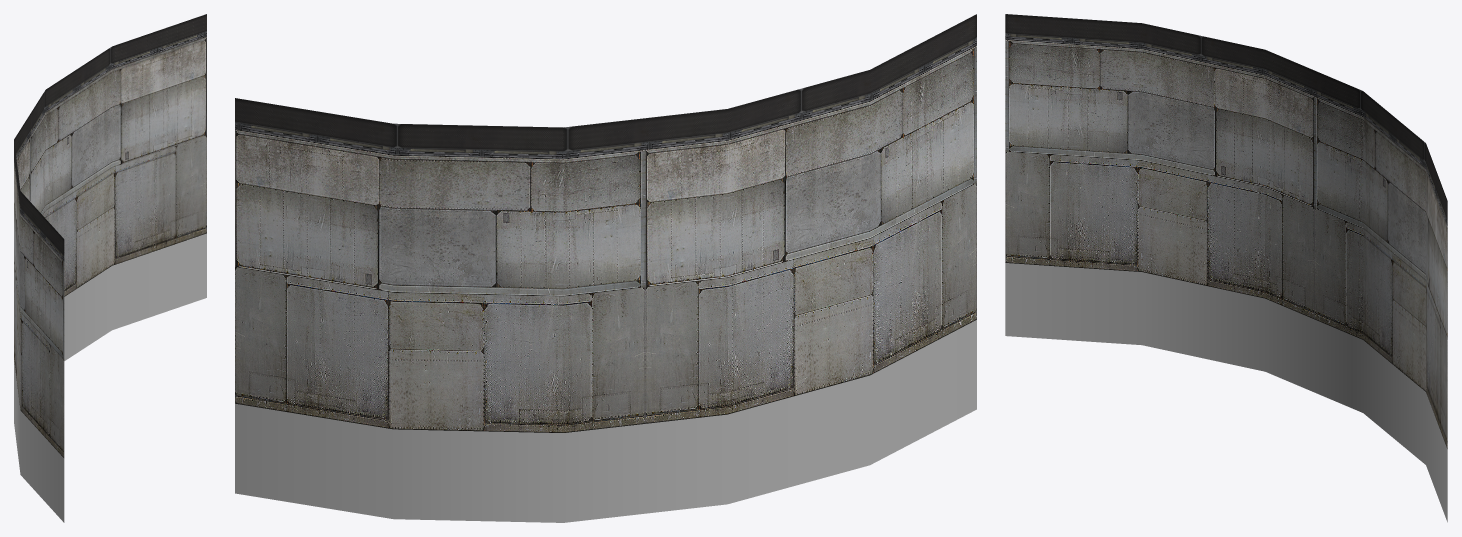
File: Wall_A_Mid4mts_12.fbx
3 views of the same model, side by side, from view 1: azimuth 30°, elevation 25°; view 2: azimuth 150°, elevation 25°; view 3: azimuth 270°, elevation 25° (orthographic). The views are drawn at different scales.
Visible parts, largest first — view 1: Wall_A_Mid4mts_12; view 2: Wall_A_Mid4mts_12; view 3: Wall_A_Mid4mts_12.
Part boxes in pixels (x1,y1,x2,y2): Wall_A_Mid4mts_12: (14, 14, 206, 522); Wall_A_Mid4mts_12: (235, 14, 976, 522); Wall_A_Mid4mts_12: (1005, 14, 1447, 522).
Bounding box in the file's own units: 498 × 400 × 498.
